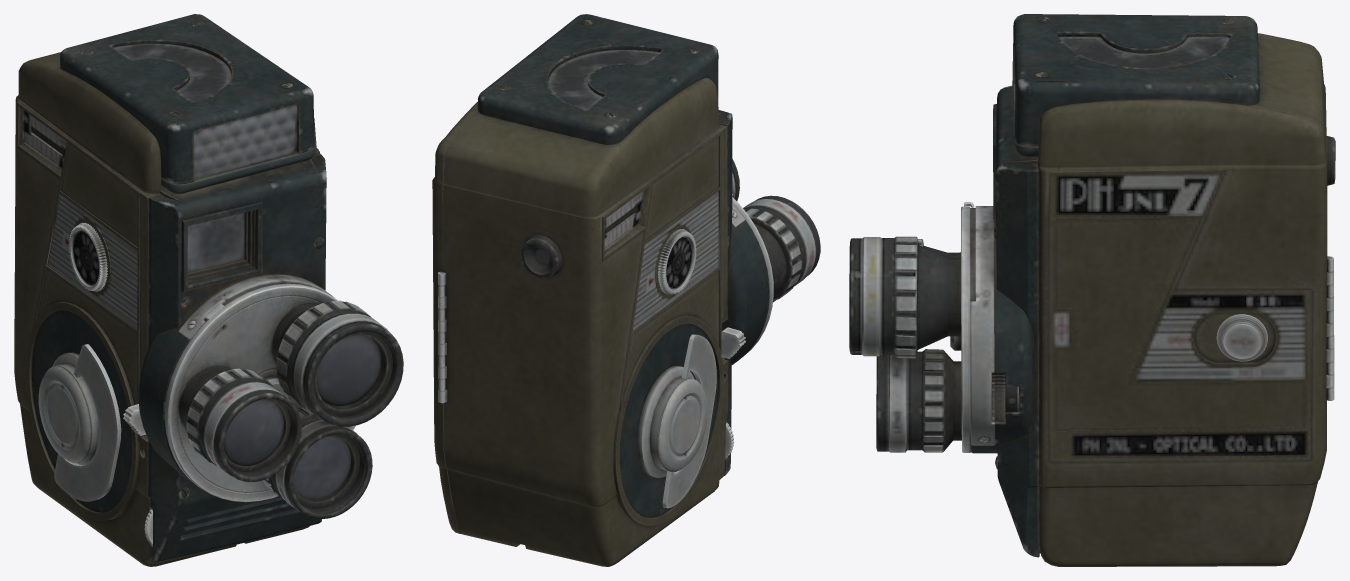
File: detail.fbx
3 renders of one model, left to right at view 1: azimuth 30°, elevation 25°; view 2: azimuth 150°, elevation 25°; view 3: azimuth 270°, elevation 25°, orthographic. The views are drawn at different scales.
Parts seen in each view (by area): view 1: vintage_video_camera; view 2: vintage_video_camera; view 3: vintage_video_camera.
Part boxes in pixels (x1,y1,x2,y2): vintage_video_camera: (14,14,403,566); vintage_video_camera: (432,14,820,566); vintage_video_camera: (849,14,1335,566).
Bounding box in the file's own units: 7.12 × 14.5 × 13.26.
